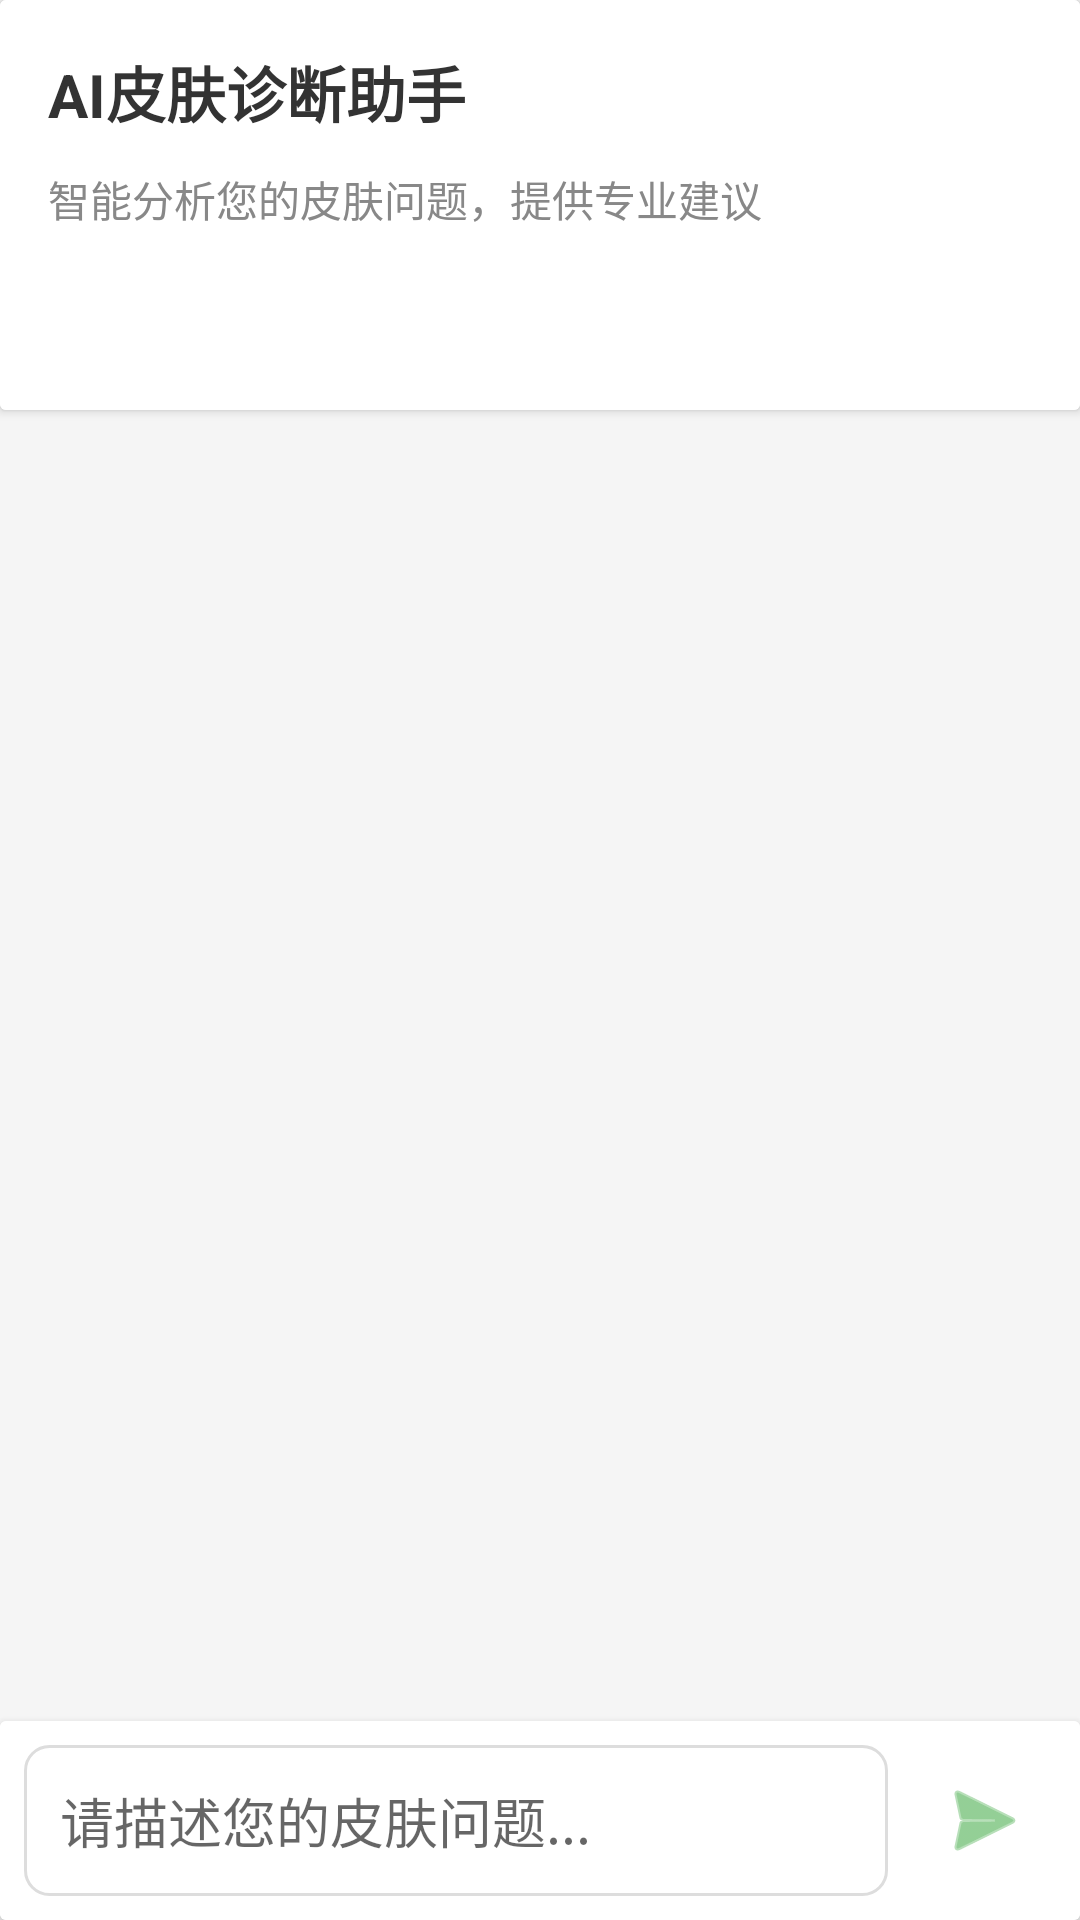

Screen size 1080w x 1920h. Icon name, then its center in pixels as (x=x, y=y):
send: (x=984, y=1820)
